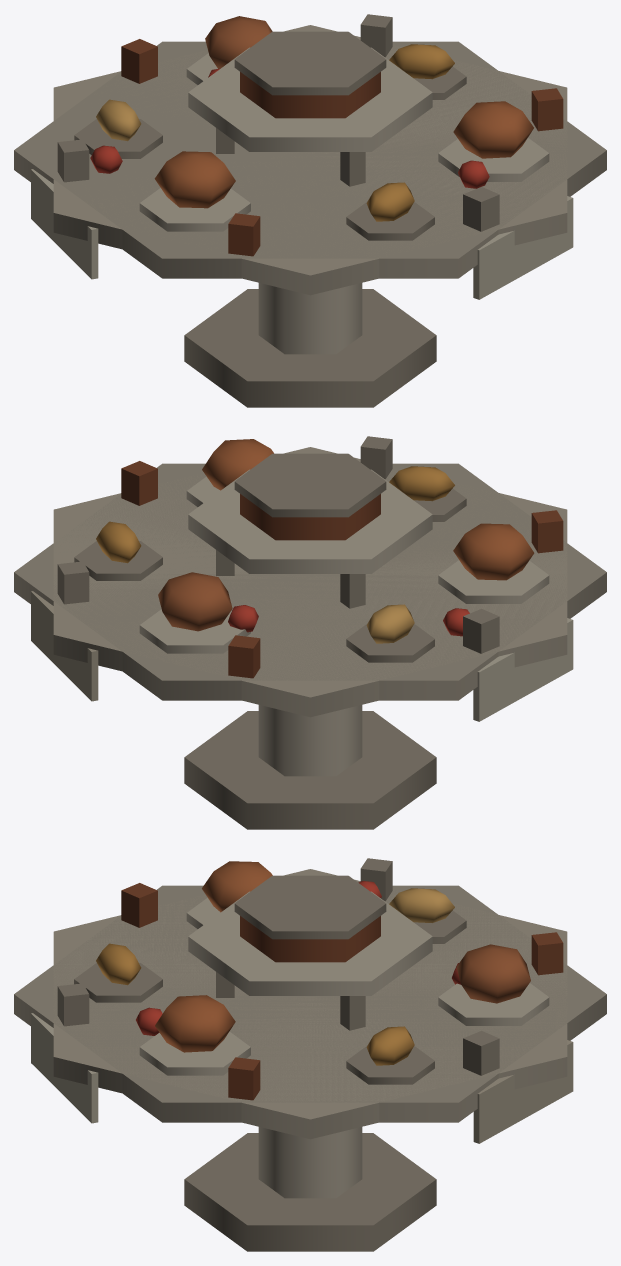
File: farm_feast_apex.glb
3 views of the same model, one above another, from view 1: azimuth 30°, elevation 25°; view 2: azimuth 150°, elevation 25°; view 3: azimuth 270°, elevation 25° (orthographic).
Visible parts, largest first — view 1: FarmBody; view 2: FarmBody; view 3: FarmBody.
Part boxes in pixels (x1=…): FarmBody: x1=14, y1=14, x2=606, y2=407; FarmBody: x1=14, y1=436, x2=606, y2=829; FarmBody: x1=14, y1=858, x2=606, y2=1251.
Bounding box in the file's own units: 1.6 × 0.8999 × 1.6.
